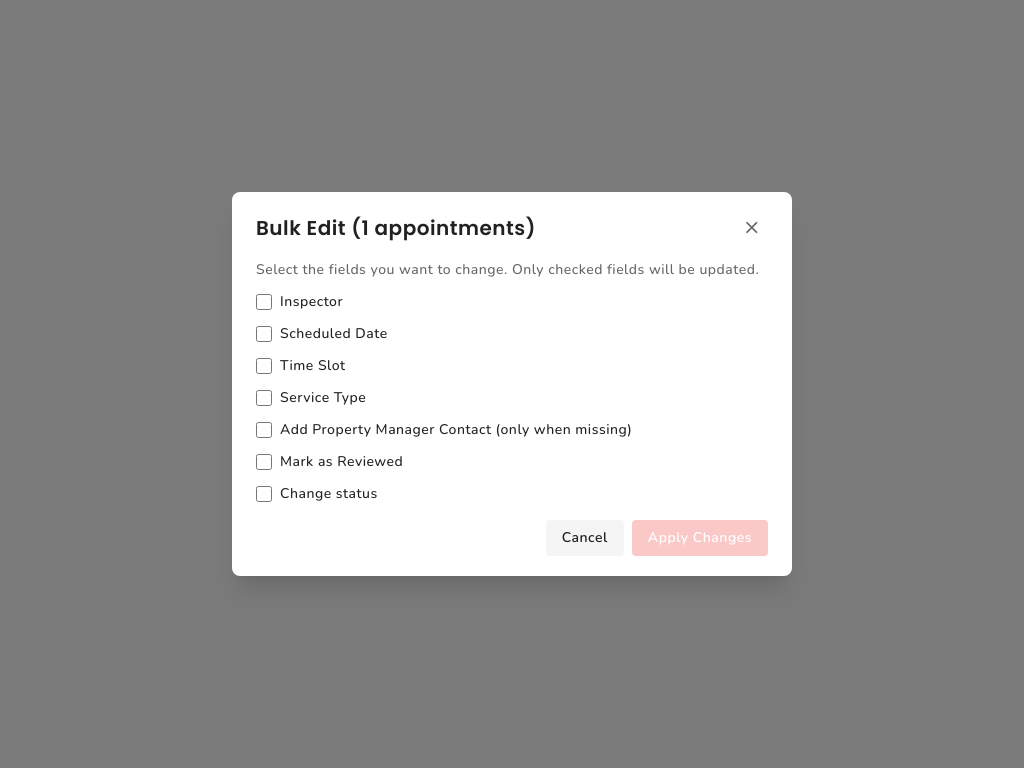
Scenario: BulkEditModal › Change status › counts an IDEMPOTENT_REPLAY as updated, not as a failure
Step 1. Click the checkbox labelled "Change status" → (264, 494), box [256,486,272,502]
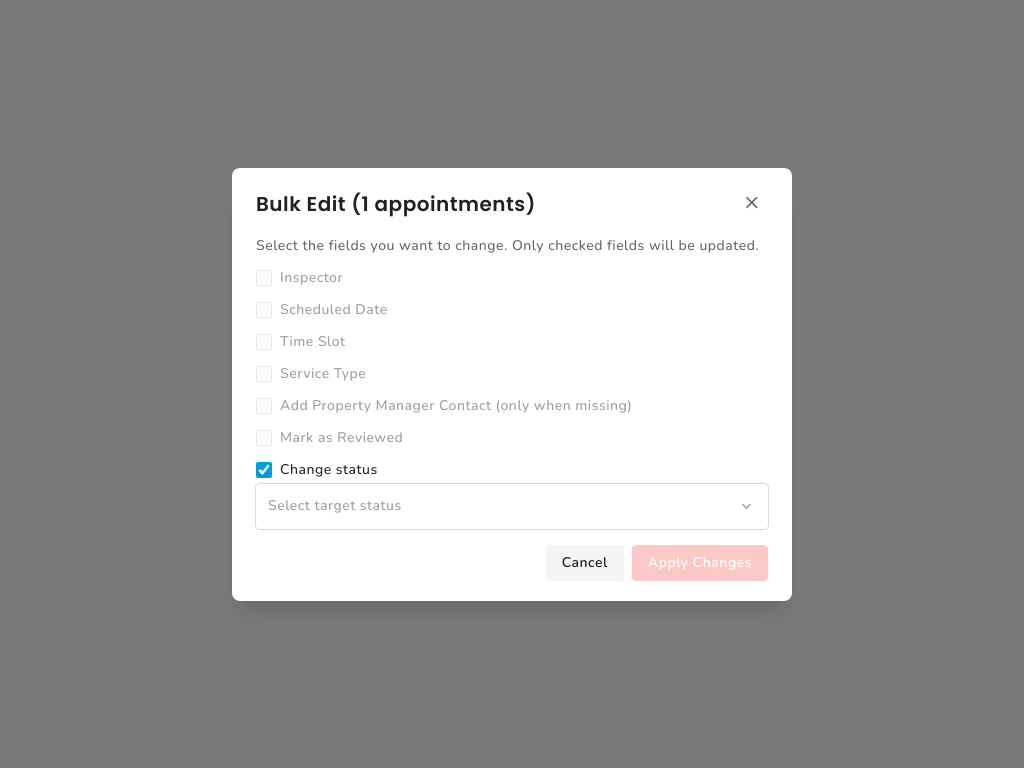
Step 2. Click the button with aria-label "Set target status" → (335, 506), box [256,484,768,528]
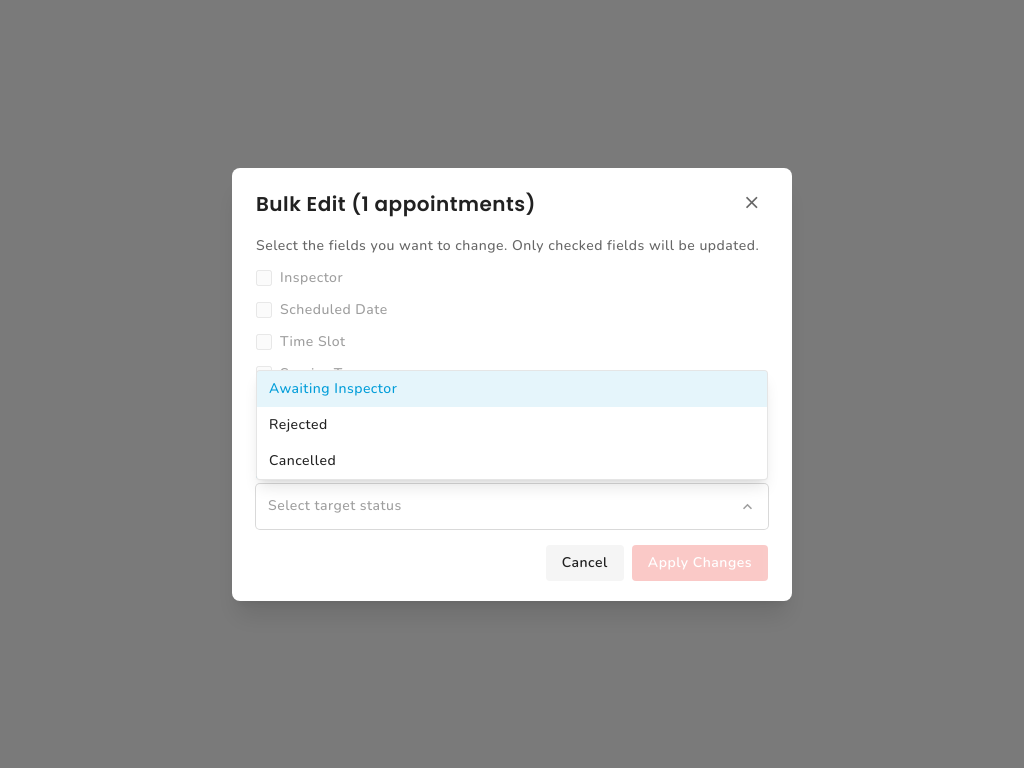
Step 3. Click the option "Awaiting Inspector" → (333, 388), box [257,370,767,406]
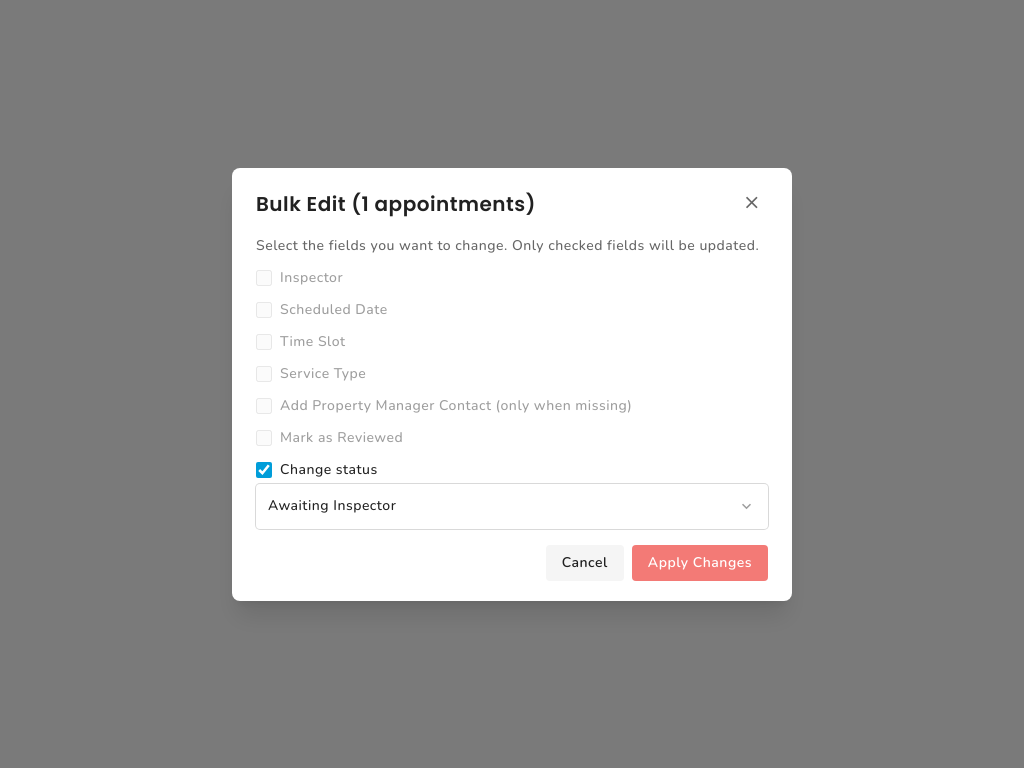
Step 4. Click the button "Apply Changes" → (700, 562), box [632,544,768,580]
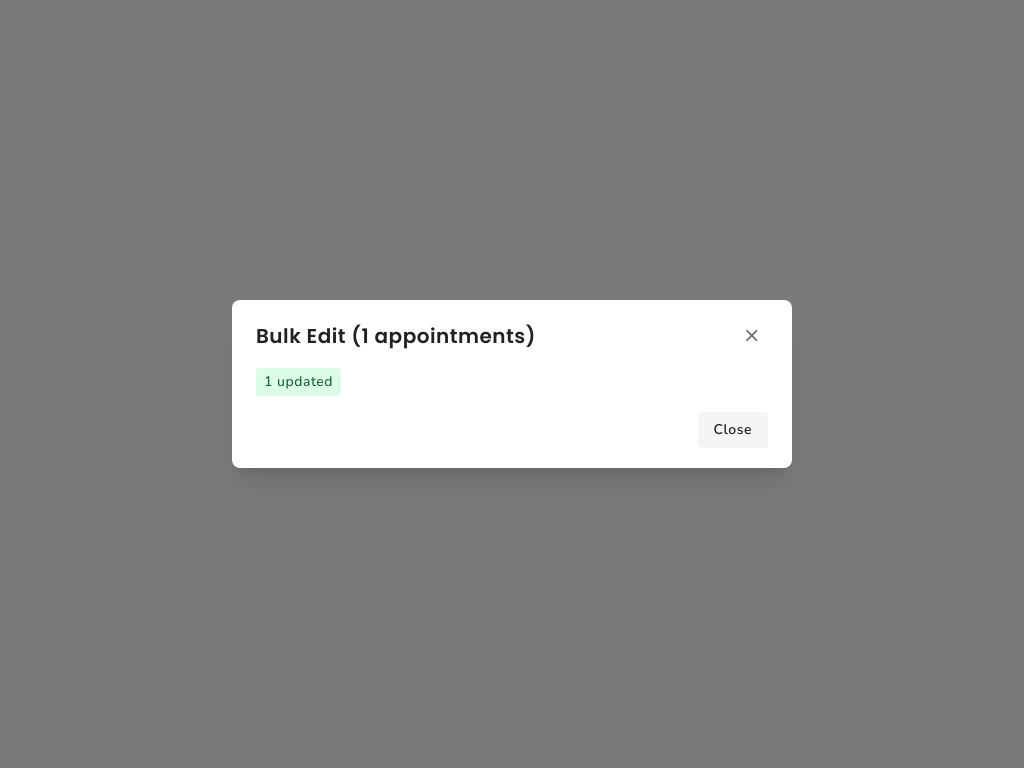
Expected: the text "1 updated" is shown, [256,368,341,396]
